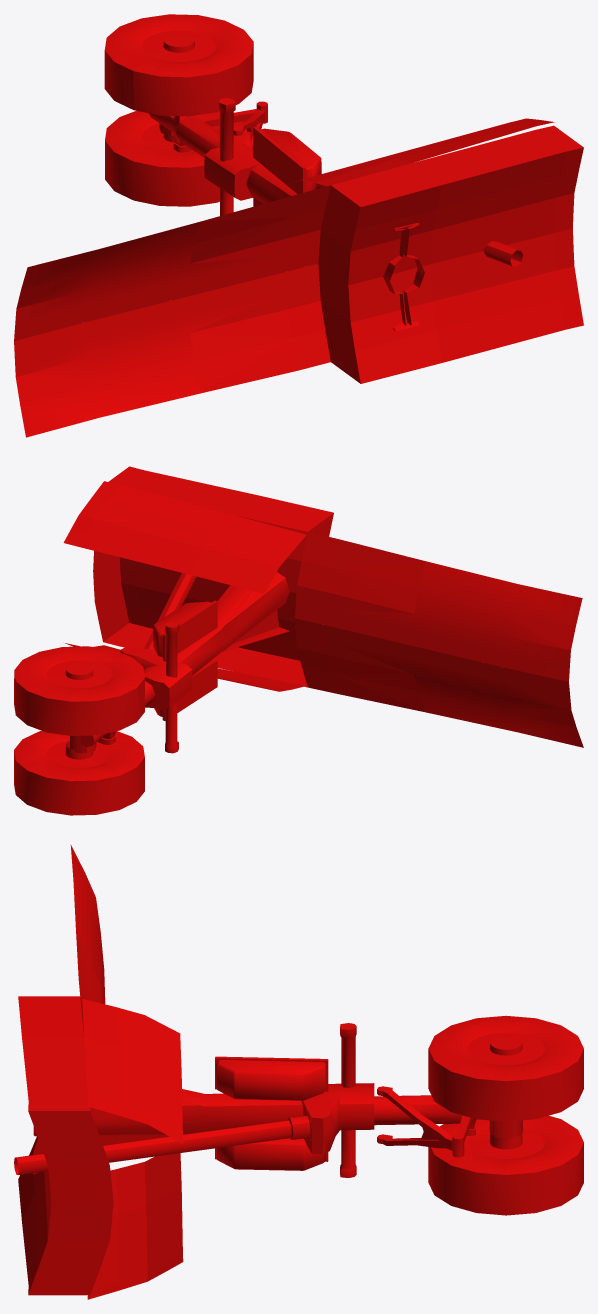
The model's file is rafale_highlight_05.fbx.
3 views of the same model, one above another, from view 1: azimuth 30°, elevation 25°; view 2: azimuth 150°, elevation 25°; view 3: azimuth 270°, elevation 25° (orthographic). The views are drawn at different scales.
Visible parts, largest first — view 1: rafale_highlight_05; view 2: rafale_highlight_05; view 3: rafale_highlight_05.
Part boxes in pixels (x1=…): rafale_highlight_05: x1=14, y1=14, x2=583, y2=437; rafale_highlight_05: x1=14, y1=466, x2=583, y2=815; rafale_highlight_05: x1=14, y1=844, x2=583, y2=1299.
Bounding box in the file's own units: 70.17 × 23.37 × 62.19.
